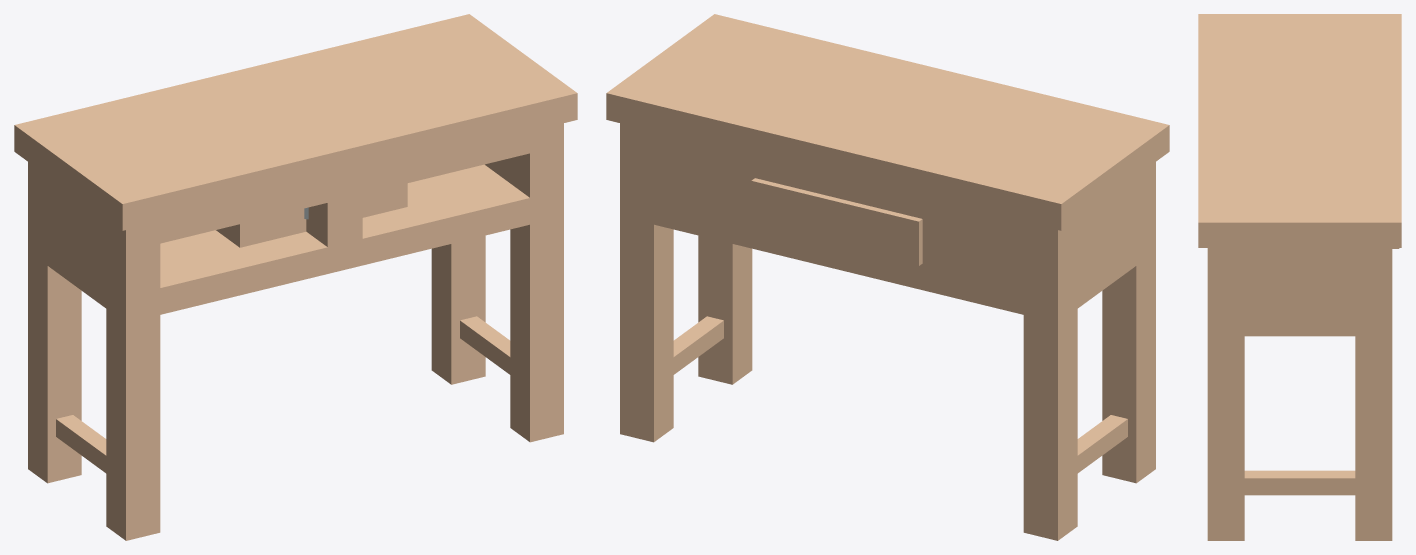
Rendered from sideTableDrawers.glb.
The picture shows the model from 3 angles, left to right: view 1: azimuth 30°, elevation 25°; view 2: azimuth 150°, elevation 25°; view 3: azimuth 270°, elevation 25°; orthographic projection. The views are drawn at different scales.
Visible parts, largest first — view 1: sideTableDrawers, sideTableDrawers.001; view 2: sideTableDrawers, sideTableDrawers.001; view 3: sideTableDrawers.
Boxes of the visible parts, x1,y1,x2,y2 form: sideTableDrawers: [14, 14, 577, 540]; sideTableDrawers.001: [216, 183, 407, 247]; sideTableDrawers: [606, 14, 1169, 540]; sideTableDrawers.001: [751, 178, 922, 265]; sideTableDrawers: [1198, 14, 1401, 540].
Bounding box in the file's own units: 1.55 × 1.11 × 0.638.
